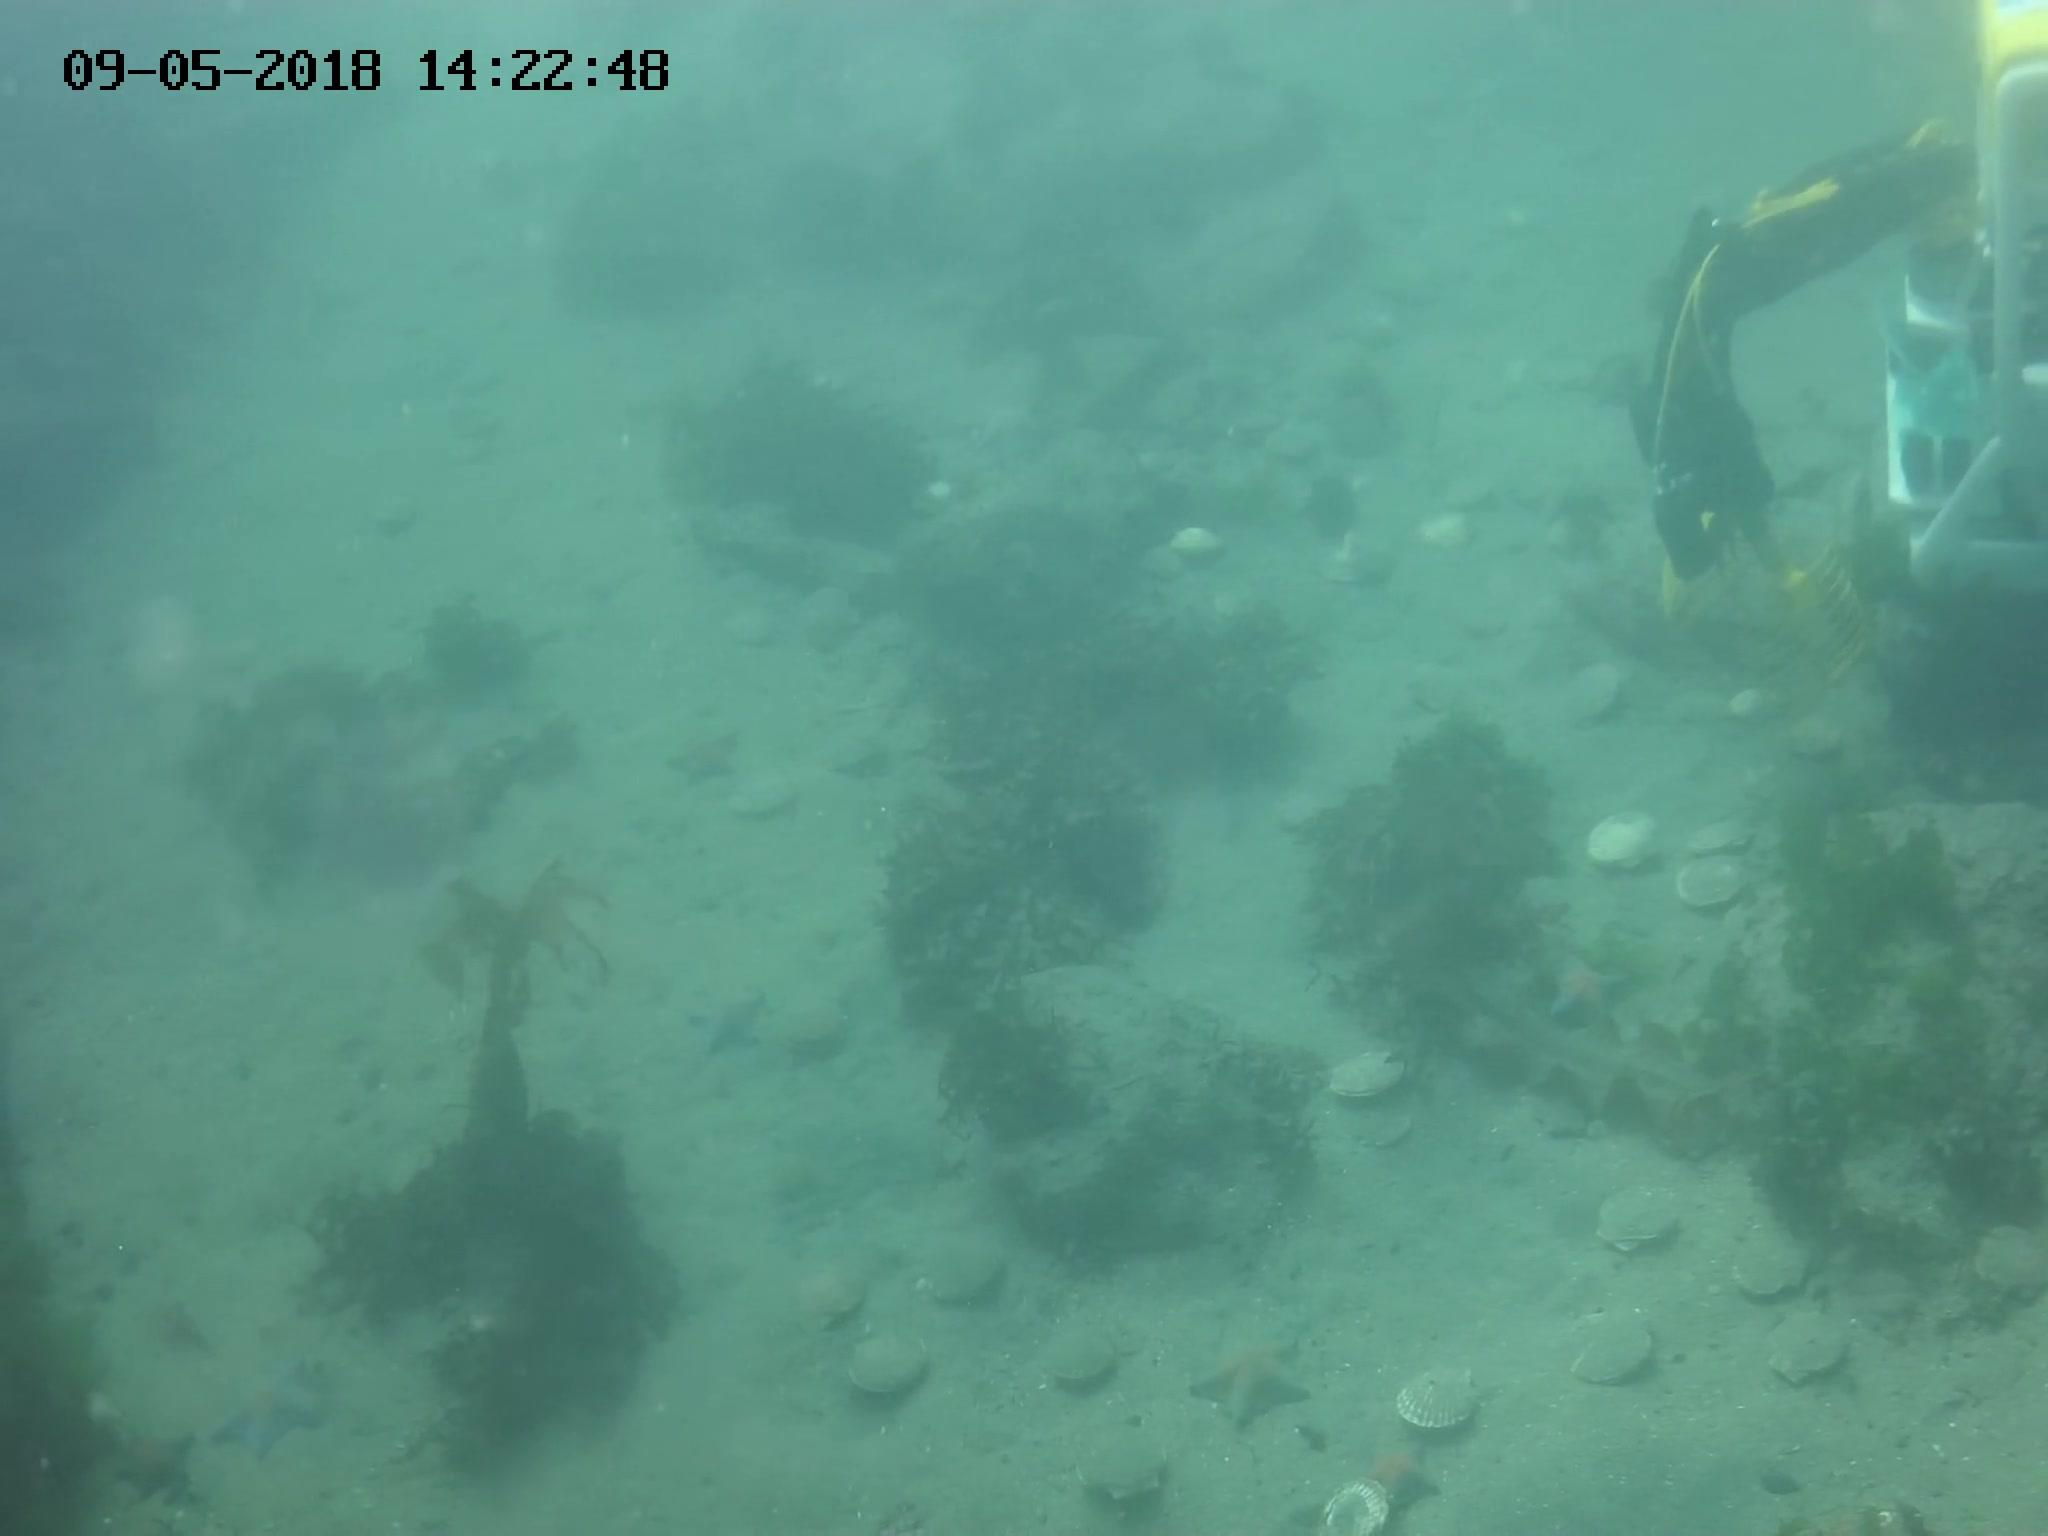scallop: (1558, 1302, 1663, 1388), (1066, 1426, 1176, 1507), (1587, 1175, 1688, 1258), (1759, 1309, 1854, 1392), (1967, 1217, 2048, 1309), (1393, 1355, 1488, 1433), (1725, 1236, 1822, 1305), (1580, 807, 1671, 878), (914, 1242, 1008, 1309), (1321, 1042, 1416, 1104), (793, 1263, 871, 1334), (1556, 658, 1627, 736), (843, 1336, 927, 1400), (1042, 1329, 1122, 1392), (769, 1005, 864, 1058), (1672, 855, 1763, 910), (1321, 1470, 1393, 1536), (731, 770, 806, 821), (1782, 716, 1850, 762), (1351, 1104, 1426, 1141), (1169, 523, 1235, 561), (1735, 679, 1798, 720), (1416, 503, 1466, 550)
starfish: (203, 1355, 340, 1467), (1187, 1333, 1321, 1433), (110, 1426, 206, 1526), (1535, 949, 1643, 1037), (1356, 1436, 1451, 1515), (679, 979, 764, 1062), (658, 724, 743, 791)
